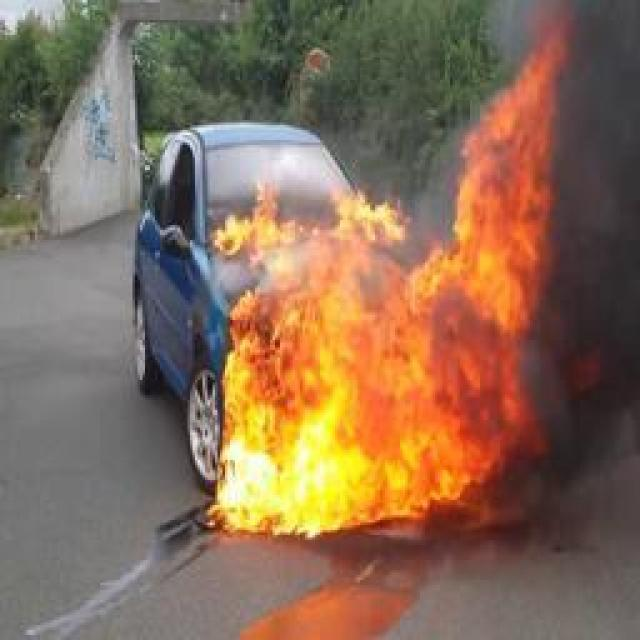Fire: (212, 0, 566, 535)
